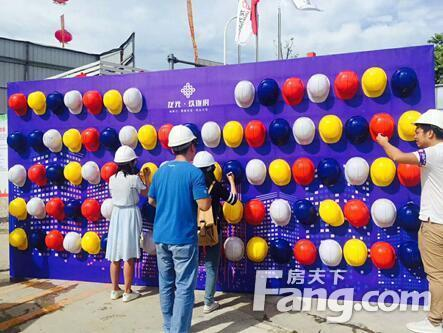helmet: (391, 67, 420, 100), (371, 159, 399, 190), (307, 74, 333, 107), (372, 113, 401, 142), (372, 200, 399, 231), (346, 157, 372, 188), (296, 237, 321, 268), (321, 116, 347, 145), (345, 199, 371, 228), (363, 68, 388, 98), (269, 158, 293, 189), (284, 77, 307, 109), (319, 201, 347, 227), (319, 240, 343, 270), (400, 109, 421, 143), (413, 110, 443, 133), (371, 244, 396, 271), (337, 71, 360, 100), (271, 118, 294, 147), (320, 159, 343, 188), (246, 198, 269, 227), (260, 79, 284, 106), (294, 119, 318, 146), (249, 237, 273, 263), (125, 88, 148, 115), (169, 127, 195, 150), (84, 88, 105, 116), (344, 240, 368, 264), (347, 117, 370, 142), (296, 200, 319, 225), (402, 205, 425, 230), (295, 159, 317, 185), (247, 121, 267, 149), (398, 243, 421, 267), (224, 201, 246, 226), (237, 82, 257, 109), (83, 127, 103, 153), (29, 162, 48, 189), (82, 231, 103, 255), (48, 196, 67, 222), (273, 239, 293, 263), (9, 93, 28, 118), (30, 92, 48, 118), (105, 90, 123, 116), (121, 128, 141, 151), (29, 199, 49, 222), (65, 231, 82, 258), (248, 161, 267, 185), (66, 90, 84, 115), (141, 127, 159, 152), (206, 123, 224, 148), (227, 124, 245, 149), (9, 165, 27, 190), (65, 162, 83, 187), (8, 131, 29, 152), (45, 131, 65, 153), (273, 202, 293, 224), (84, 199, 101, 224), (196, 153, 218, 172), (10, 229, 28, 252), (116, 148, 140, 165), (66, 201, 83, 224), (103, 127, 119, 151), (227, 240, 245, 261), (67, 132, 84, 154), (83, 162, 100, 184), (49, 93, 65, 116), (11, 199, 27, 222), (48, 228, 64, 251), (47, 164, 64, 185), (30, 230, 46, 251), (30, 130, 44, 150)
